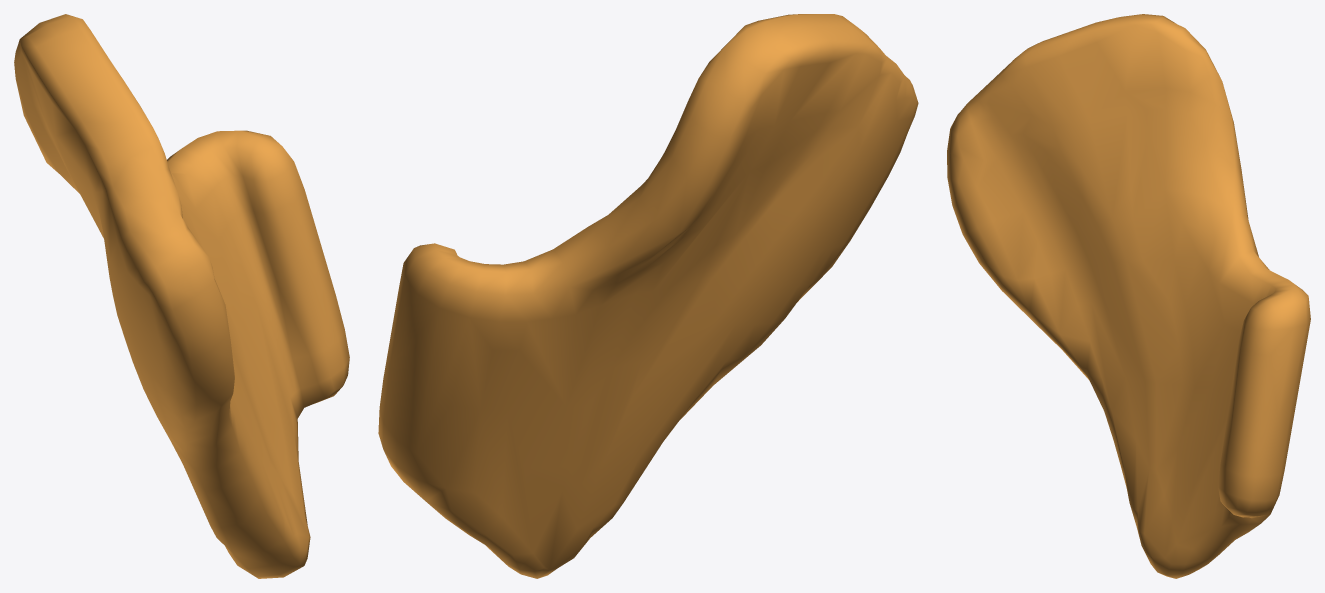
Rendered from visceras-parotid-gland-r.glb.
The picture shows the model from 3 angles, left to right: view 1: azimuth 30°, elevation 25°; view 2: azimuth 150°, elevation 25°; view 3: azimuth 270°, elevation 25°; orthographic projection. The views are drawn at different scales.
Visible parts, largest first — view 1: Parotid gland.r; view 2: Parotid gland.r; view 3: Parotid gland.r.
Boxes of the visible parts, bbox=[...] form: Parotid gland.r: bbox=[14, 14, 349, 578]; Parotid gland.r: bbox=[378, 14, 918, 578]; Parotid gland.r: bbox=[947, 14, 1310, 578].
Size of the model in its own units: 0.0314 by 0.0476 by 0.0331.
